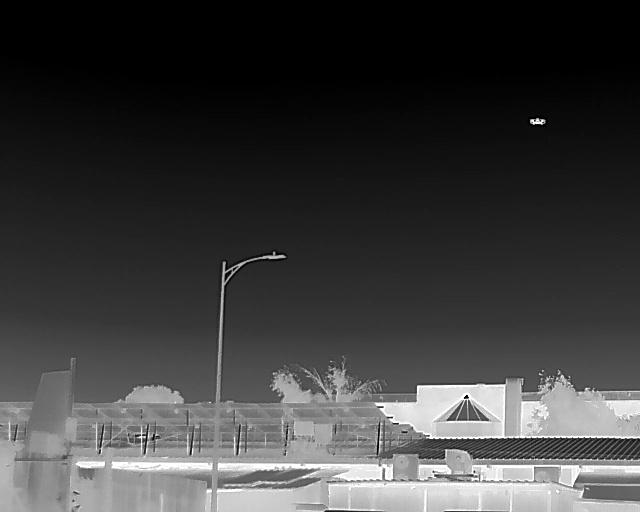fpv-drone: (530, 118, 545, 125)
